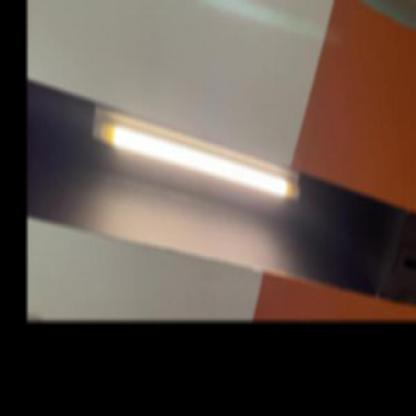light_on: (88, 83, 310, 215)
